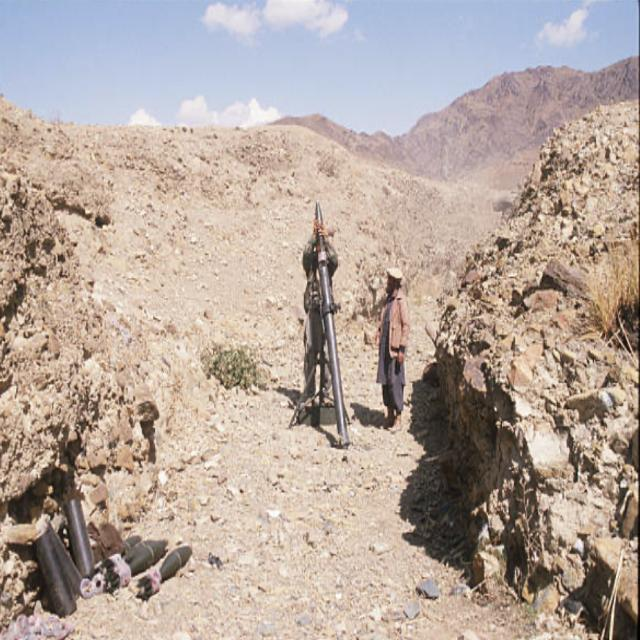bazooka: (311, 197, 362, 472)
